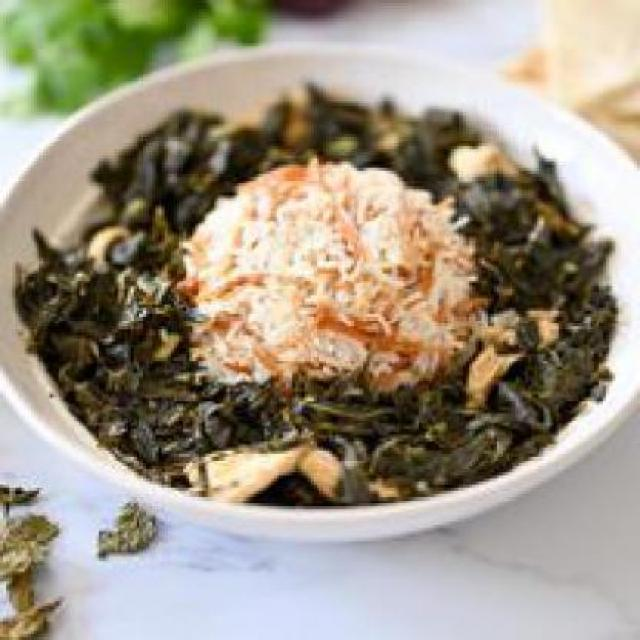fried rice: (198, 161, 476, 373)
molokhia: (3, 72, 619, 510)
